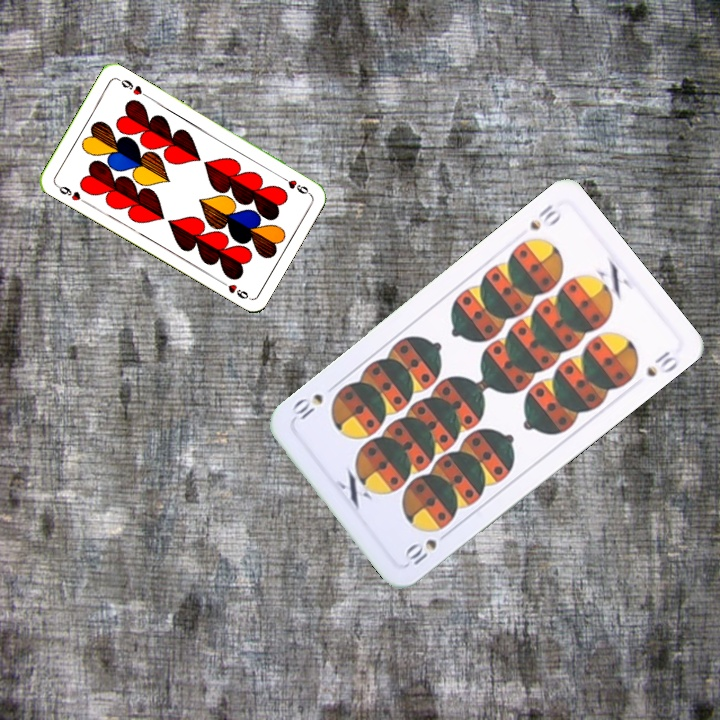H9: (52, 180, 89, 206), (275, 172, 312, 197)
S10: (400, 526, 453, 570), (525, 200, 565, 233)
